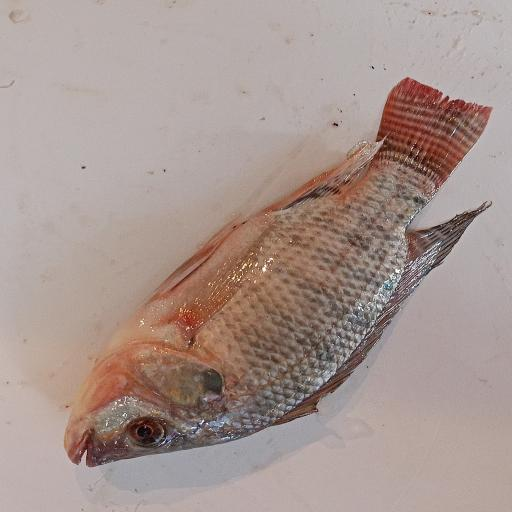Tilapia: (63, 77, 493, 468)
